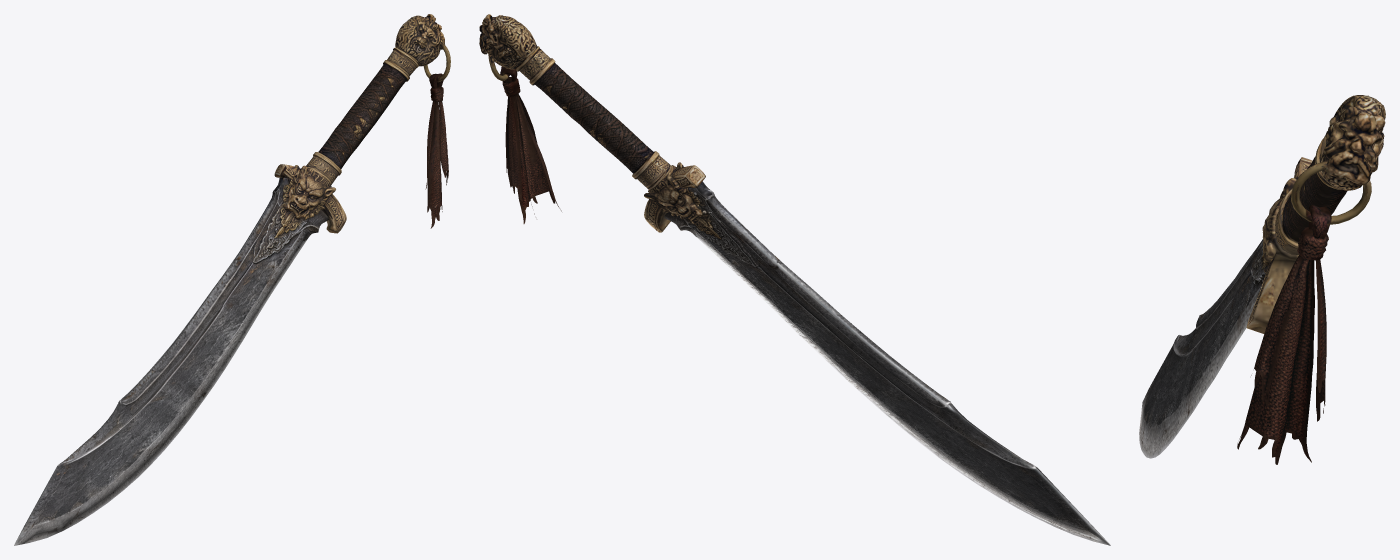
3 views of the same model, side by side, from view 1: azimuth 30°, elevation 25°; view 2: azimuth 150°, elevation 25°; view 3: azimuth 270°, elevation 25° (orthographic). The views are drawn at different scales.
Parts seen in each view (by area): view 1: tripo_node_e91bfef8-e359-43c7-addd-c8deac8c830d; view 2: tripo_node_e91bfef8-e359-43c7-addd-c8deac8c830d; view 3: tripo_node_e91bfef8-e359-43c7-addd-c8deac8c830d.
Boxes of the visible parts, box(x1,y1,x2,y2) form: tripo_node_e91bfef8-e359-43c7-addd-c8deac8c830d: box(14, 14, 450, 545); tripo_node_e91bfef8-e359-43c7-addd-c8deac8c830d: box(479, 14, 1110, 545); tripo_node_e91bfef8-e359-43c7-addd-c8deac8c830d: box(1139, 95, 1385, 464).
Bounding box in the file's own units: 0.9995 × 0.7495 × 0.2222.
1 material, 1 textured.
